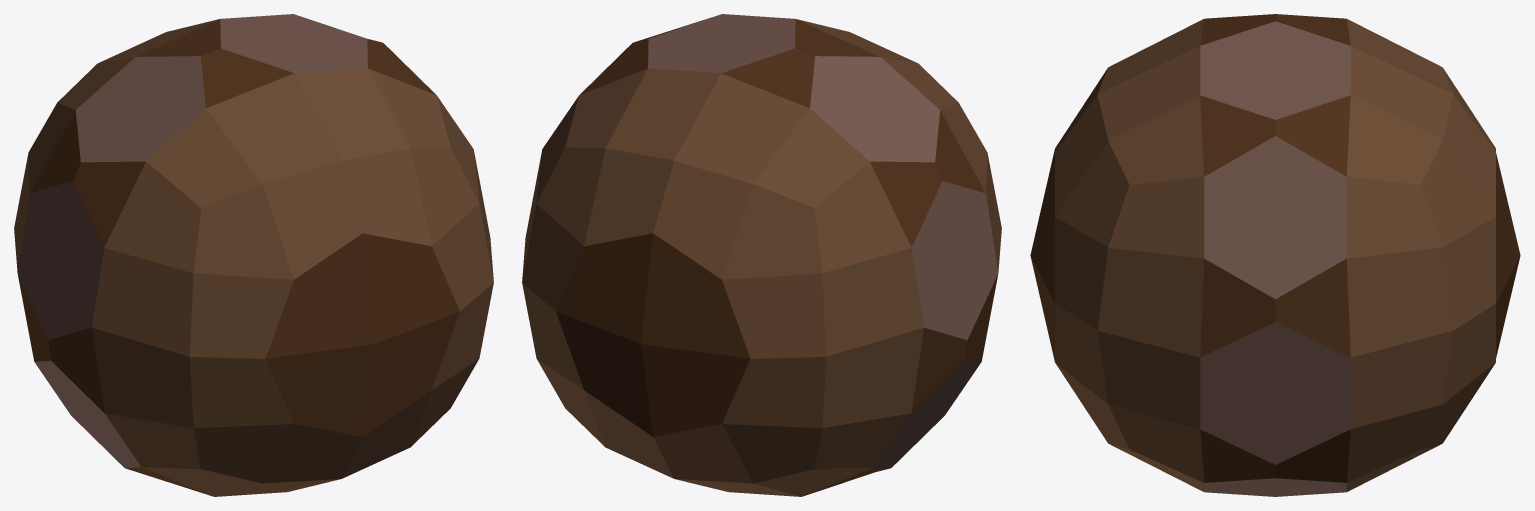
The model's file is RolyPoly.fbx.
3 renders of one model, left to right at view 1: azimuth 30°, elevation 25°; view 2: azimuth 150°, elevation 25°; view 3: azimuth 270°, elevation 25°, orthographic.
Parts seen in each view (by area): view 1: Cube, Cube.002, Cube.001, Cube.003; view 2: Cube, Cube.002, Cube.001, Cube.003; view 3: Cube, Cube.002, Cube.003, Cube.001.
Boxes of the visible parts, <box> form: Cube: <box>14,19,493,496</box>; Cube.002: <box>17,14,367,467</box>; Cube.001: <box>265,233,459,436</box>; Cube.003: <box>17,19,435,496</box>; Cube: <box>522,19,1001,496</box>; Cube.002: <box>648,14,998,467</box>; Cube.001: <box>556,233,750,436</box>; Cube.003: <box>580,17,998,495</box>; Cube: <box>1055,19,1495,491</box>; Cube.002: <box>1200,21,1350,496</box>; Cube.003: <box>1200,14,1350,482</box>; Cube.001: <box>1030,149,1520,361</box>.
Bounding box in the file's own units: 336 × 336 × 343.
